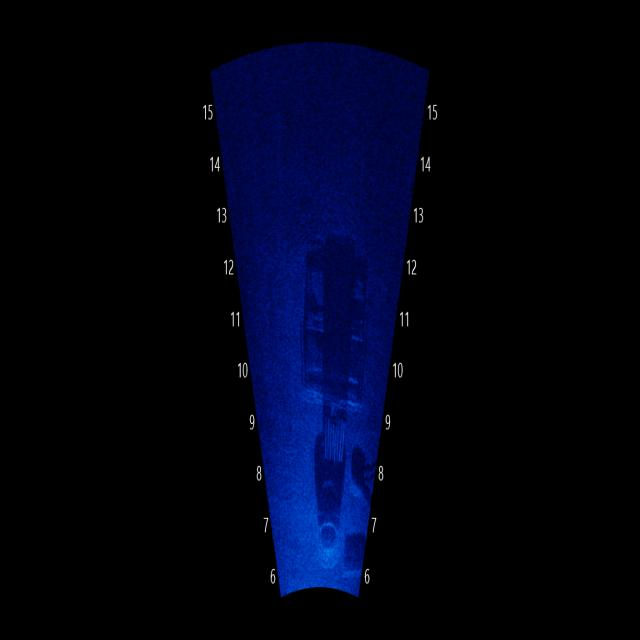circle: (308, 497, 345, 580)
square: (289, 219, 383, 412)
